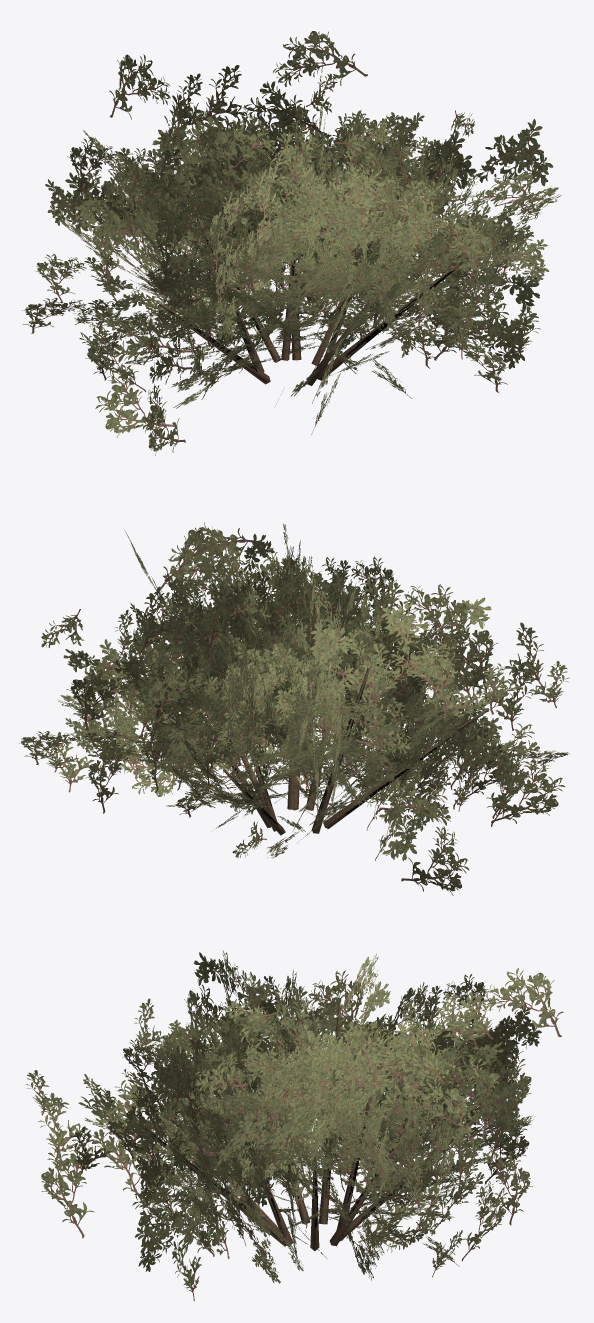
Rendered from BG_Bush.fbx.
The picture shows the model from 3 angles, top to bottom: view 1: azimuth 30°, elevation 25°; view 2: azimuth 150°, elevation 25°; view 3: azimuth 270°, elevation 25°; orthographic projection. The views are drawn at different scales.
Parts seen in each view (by area): view 1: BG_Bush; view 2: BG_Bush; view 3: BG_Bush.
Boxes of the visible parts, left/top/right/bottom form: BG_Bush: left=22, top=31, right=561, bottom=455; BG_Bush: left=19, top=522, right=569, bottom=895; BG_Bush: left=25, top=950, right=563, bottom=1301.
Bounding box in the file's own units: 1.15 × 0.8167 × 1.14.
1 material, 1 textured.
